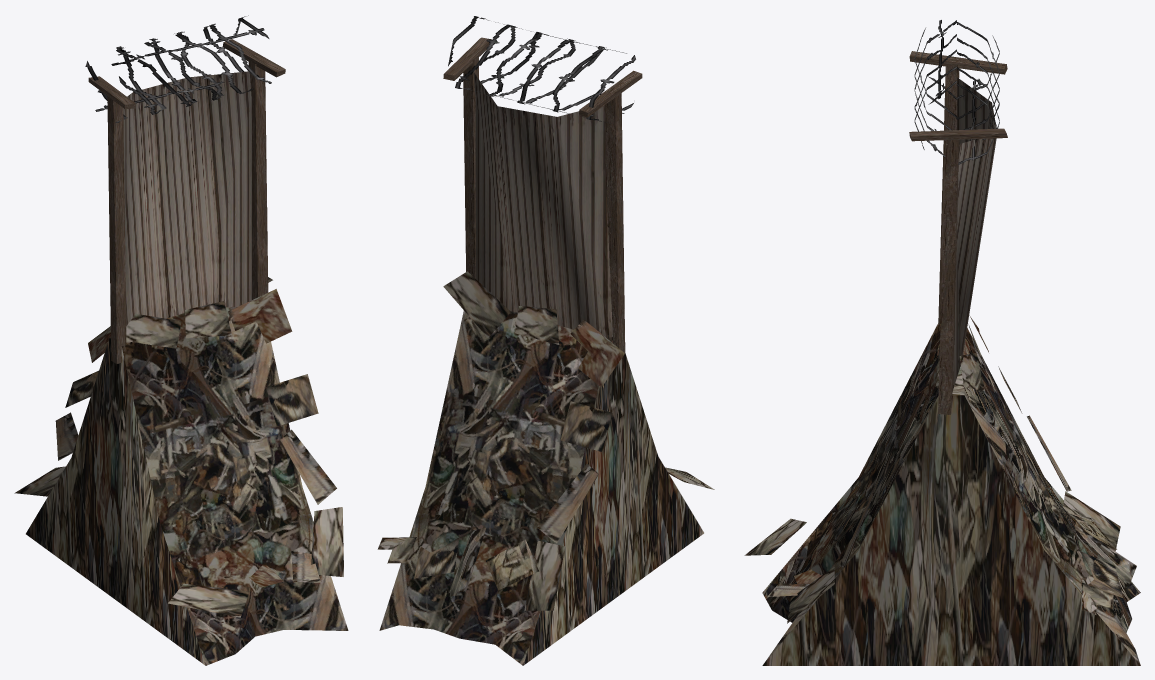
Rendered from Baricd02.glb.
The picture shows the model from 3 angles, left to right: view 1: azimuth 30°, elevation 25°; view 2: azimuth 150°, elevation 25°; view 3: azimuth 270°, elevation 25°; orthographic projection. The views are drawn at different scales.
Parts seen in each view (by area): view 1: _Baricd02; view 2: _Baricd02; view 3: _Baricd02.
Boxes of the visible parts, <box> form: _Baricd02: <box>14,15,348,665</box>; _Baricd02: <box>377,16,714,665</box>; _Baricd02: <box>744,20,1140,665</box>.
Size of the model in its own units: 1.37 by 3.68 by 2.29.
Materials: 3 (3 with a texture image).
